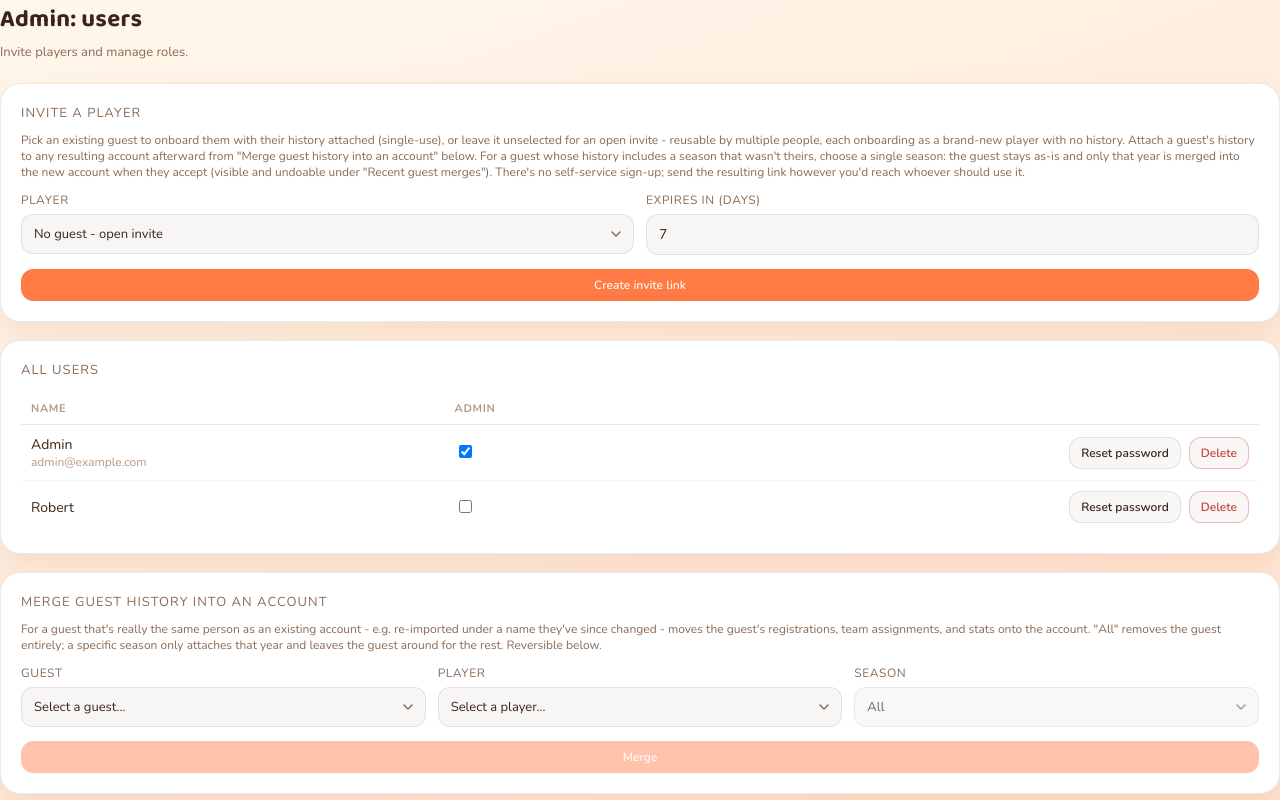
Test: AdminUsers - users › shows the server's error when an action fails
Expected: the element with class "users-table-wrap" is shown, [0,340,1279,554]
What coordinates should you click on to do the following:
click the button "Delete" in the row of "admin@example.com"
I would click on:
 (1219, 452)
Its box is [1189,436,1249,468].
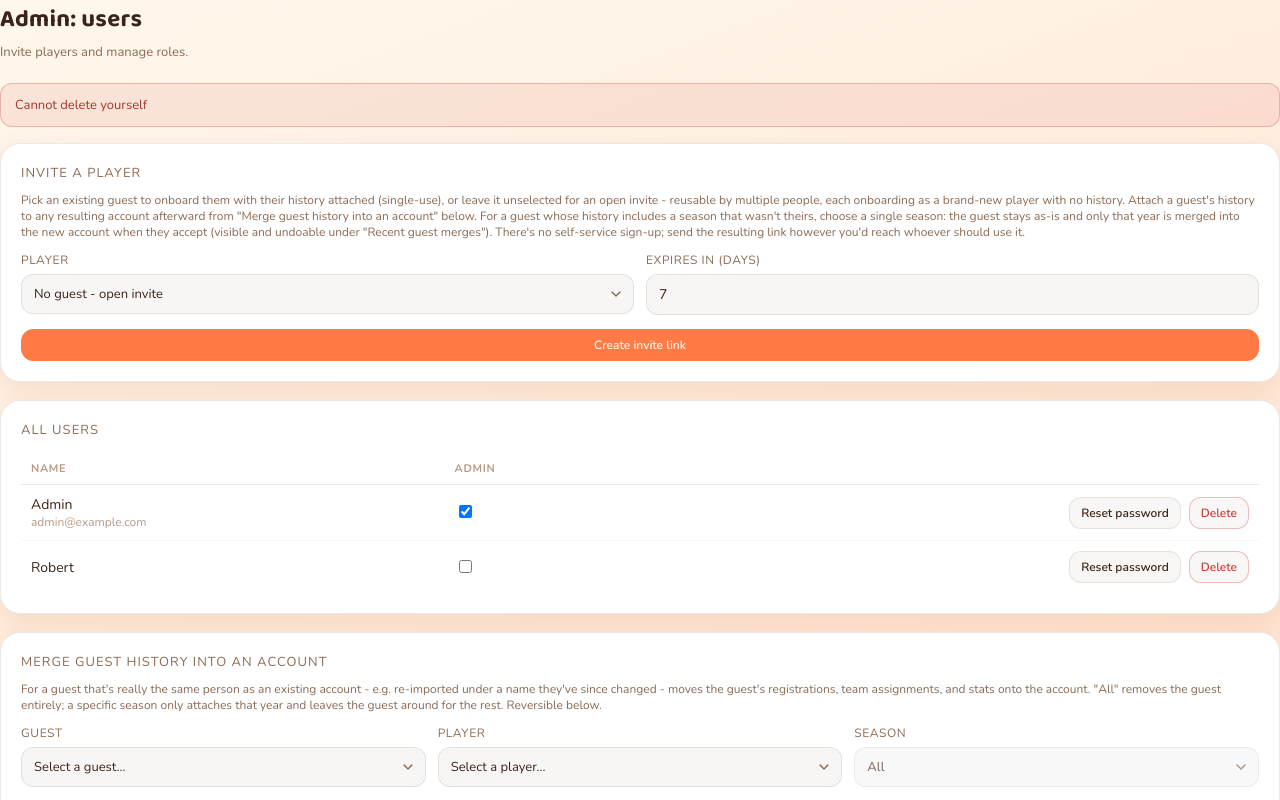
Now the text "Cannot delete yourself" is shown, box [0,83,1279,127]
